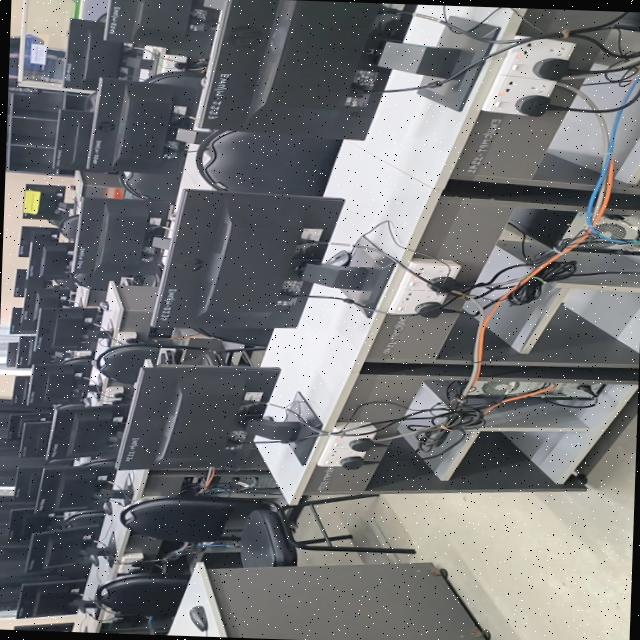Chair: (120, 494, 414, 566), (195, 129, 342, 194), (92, 572, 188, 616), (118, 156, 183, 202), (96, 342, 160, 383), (143, 69, 202, 87)
Cpu: (468, 379, 606, 400), (197, 465, 280, 494), (598, 214, 640, 238), (585, 236, 640, 250), (564, 211, 586, 236), (446, 380, 467, 398)
Monitor: (152, 188, 344, 344), (200, 0, 415, 138), (118, 363, 279, 468), (86, 77, 189, 171), (73, 195, 170, 281), (105, 0, 218, 55), (63, 17, 130, 89), (45, 403, 129, 460), (35, 459, 114, 512), (31, 305, 99, 362), (25, 523, 100, 570), (16, 577, 86, 617), (27, 361, 89, 404), (53, 108, 93, 169), (22, 283, 72, 319), (7, 506, 61, 539), (17, 225, 59, 256), (23, 185, 62, 218), (19, 419, 51, 457), (39, 241, 71, 278), (6, 411, 46, 438), (13, 466, 41, 498), (9, 306, 35, 333), (15, 334, 34, 366), (13, 621, 73, 631), (11, 374, 29, 402), (13, 267, 26, 295), (6, 341, 18, 365)
Mouse: (189, 605, 207, 630), (326, 249, 349, 264), (98, 299, 108, 309)
